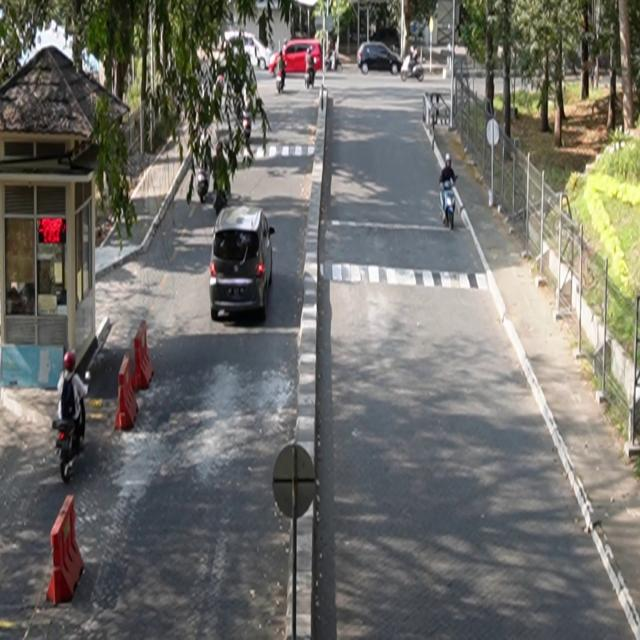car: (210, 205, 276, 322), (358, 43, 403, 76)
